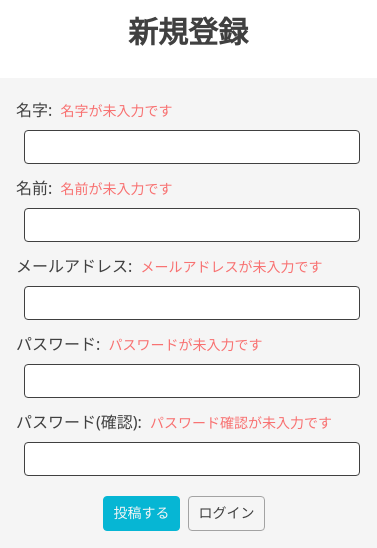
it: validation › should show alert when the length of first name is more than 12
Type "aaaaaaaaaaaaa" into the field with test id "first-name-input" at (192,147), box [24,130,360,164]
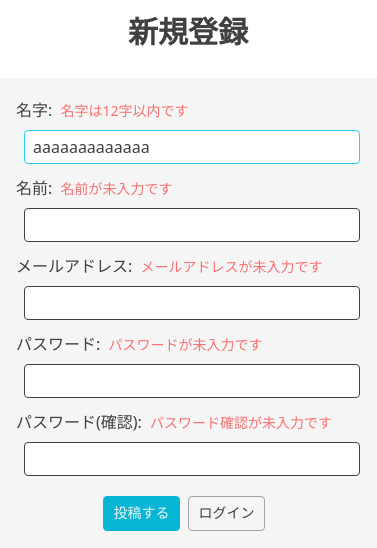
Now the text "名字は12字以内です" is shown, box [60,101,188,120]
